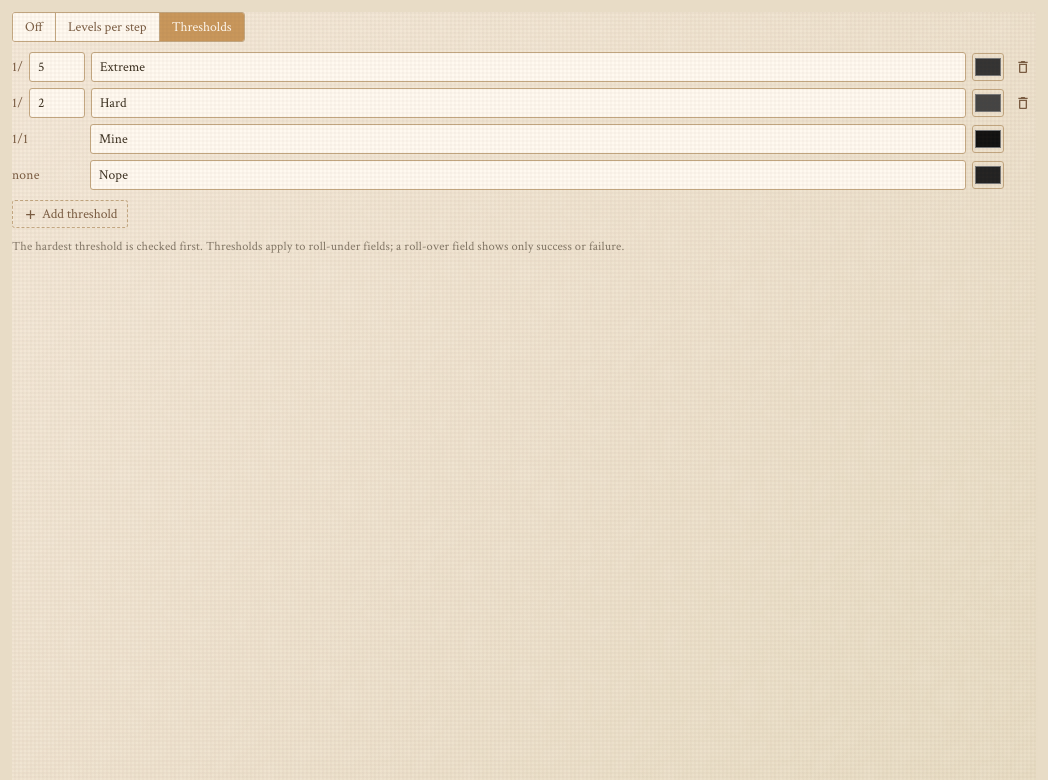
SuccessLevelsBuilder › reverts an invalid divisor draft on blur without committing
Replace the text in the number field with test id "slb-divisor-b" with "5": (57, 103) 29,88 -> 85,118
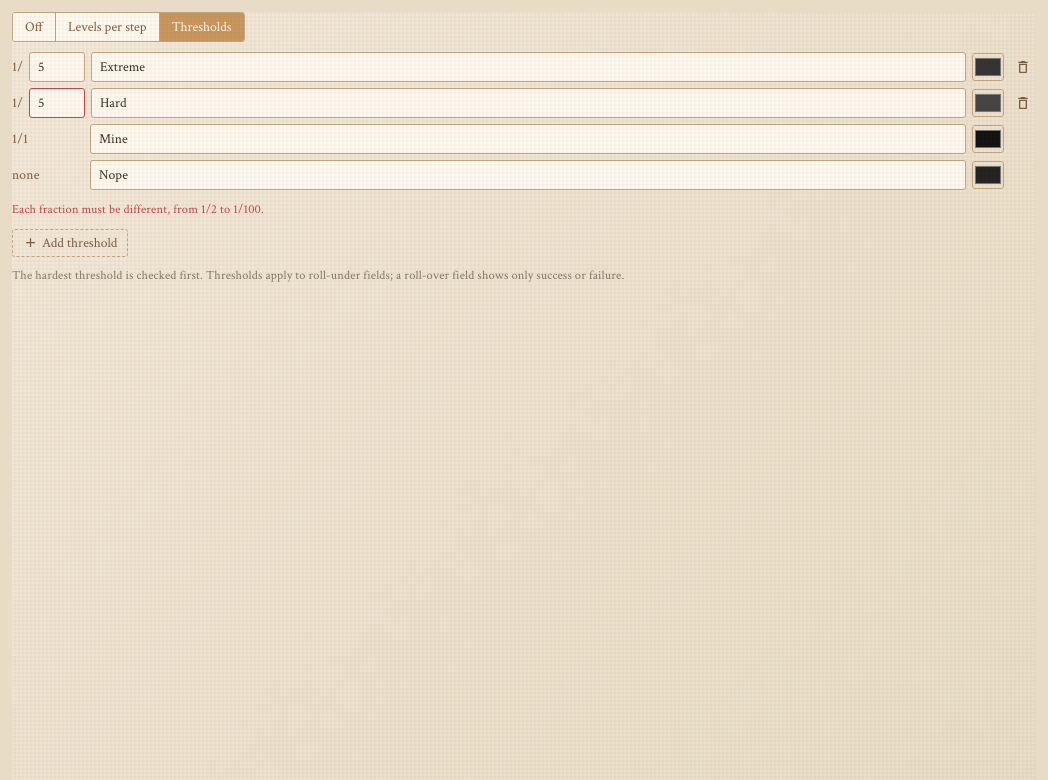
Leave the number field with test id "slb-divisor-b", box 29,88 -> 85,118
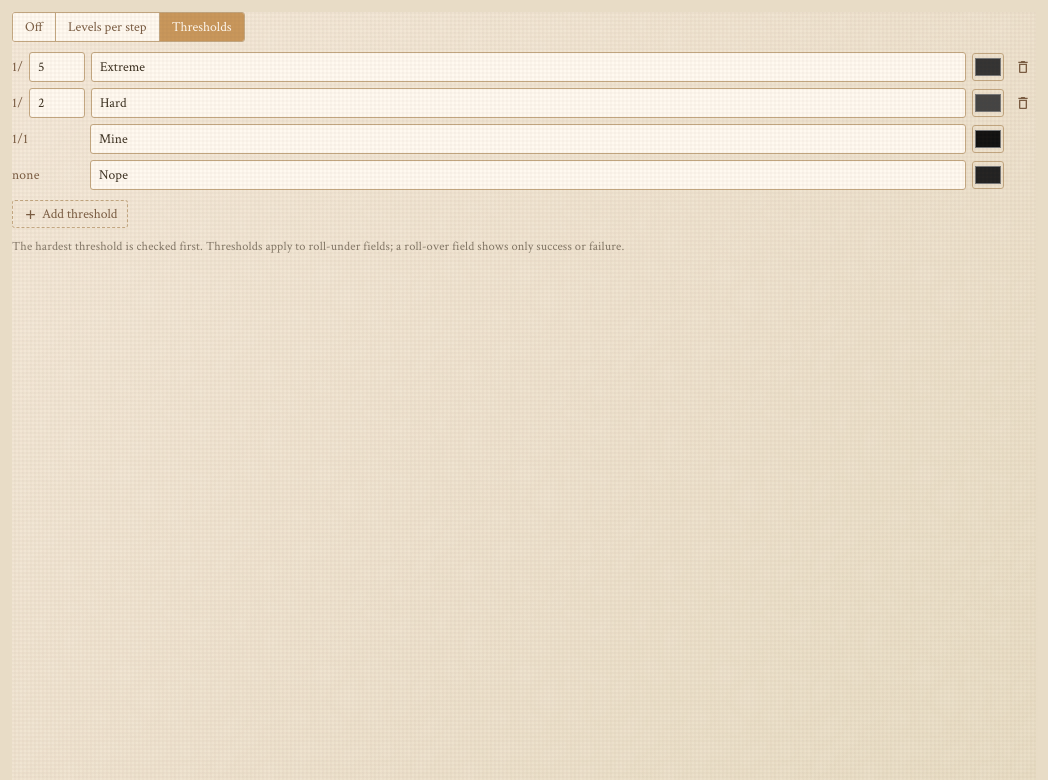
expect the number field with test id "slb-divisor-b" holds "2": met, box 29,88 -> 85,118
